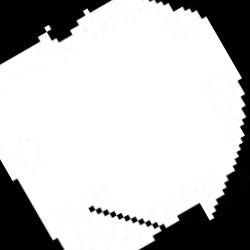spot: (2, 2, 247, 249)
